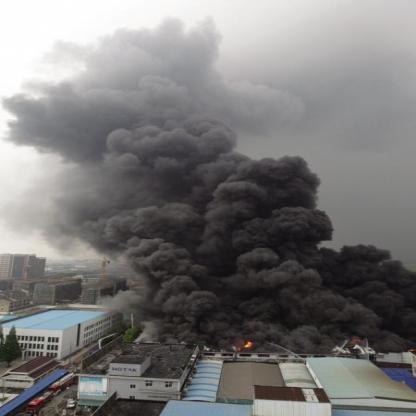smoke: (5, 16, 264, 148), (89, 150, 331, 237), (135, 266, 414, 332), (84, 235, 331, 268), (328, 242, 400, 265)
